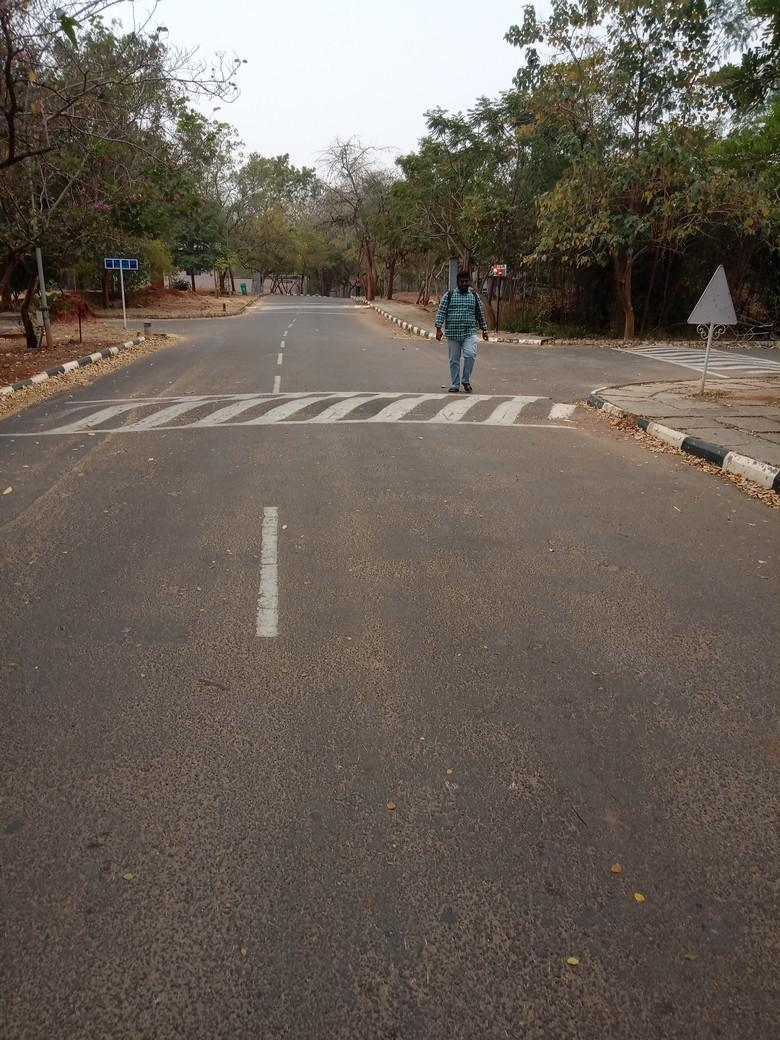speed-bump: (9, 391, 593, 437)
